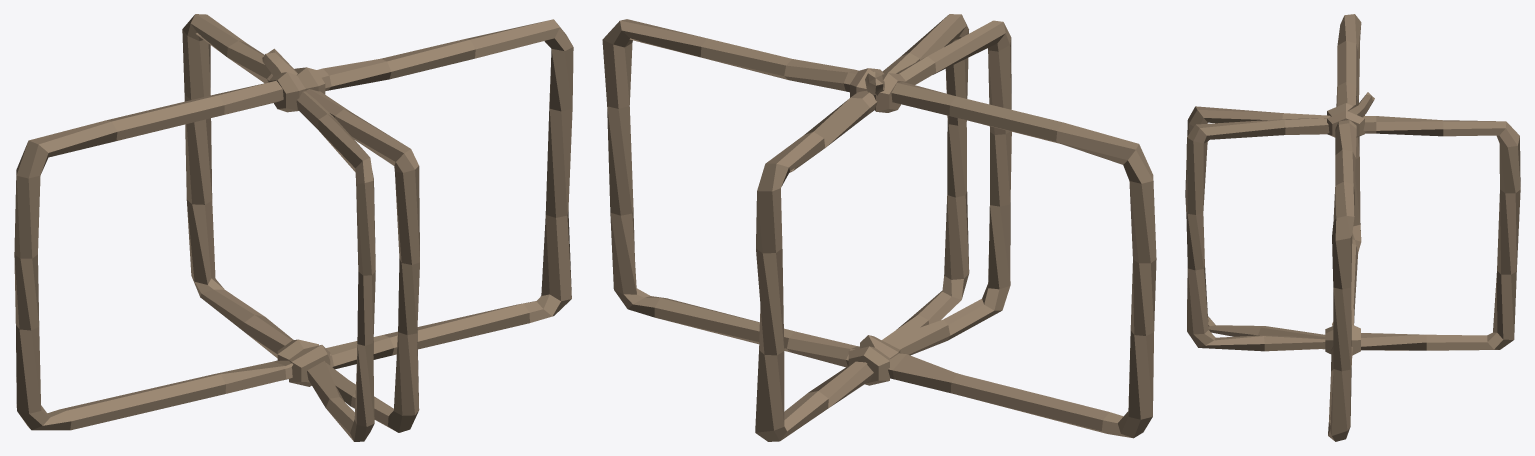
Rendered from SM_Prop_Crate_02_Insert_02.fbx.
The picture shows the model from 3 angles, left to right: view 1: azimuth 30°, elevation 25°; view 2: azimuth 150°, elevation 25°; view 3: azimuth 270°, elevation 25°; orthographic projection. The views are drawn at different scales.
Visible parts, largest first — view 1: SM_Prop_Crate_02_Insert_02; view 2: SM_Prop_Crate_02_Insert_02; view 3: SM_Prop_Crate_02_Insert_02.
Part boxes in pixels (left/top/right/bottom): SM_Prop_Crate_02_Insert_02: left=14, top=14, right=573, bottom=441; SM_Prop_Crate_02_Insert_02: left=602, top=14, right=1156, bottom=441; SM_Prop_Crate_02_Insert_02: left=1185, top=14, right=1520, bottom=441.
Bounding box in the file's own units: 115 × 64.4 × 76.57.
